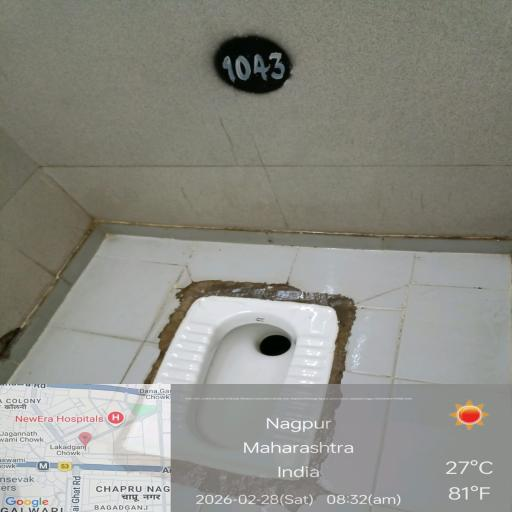clean_floor: (15, 22, 512, 250)
clean_indian: (114, 272, 392, 512)
